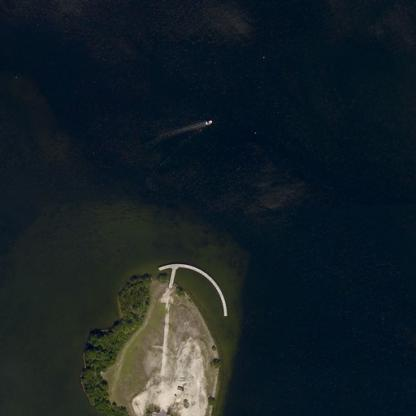ship: (196, 114, 216, 130)
